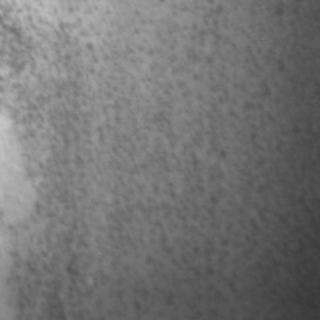pitted_surface: (5, 2, 305, 312)
